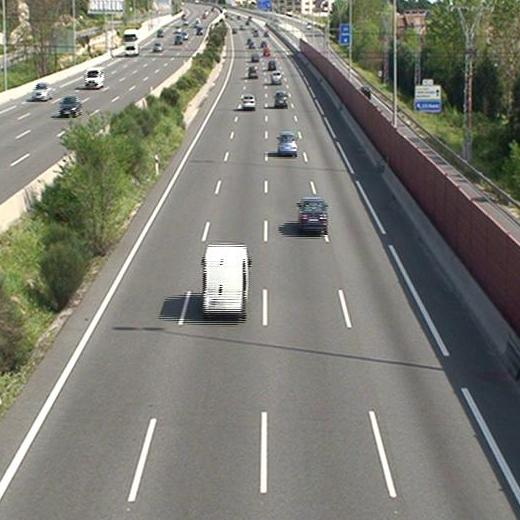car: (297, 198, 328, 231), (277, 132, 297, 156), (273, 91, 289, 107), (241, 95, 255, 110), (247, 65, 258, 78), (271, 71, 281, 85), (251, 53, 259, 63), (268, 59, 276, 69)
van: (201, 243, 250, 318)
